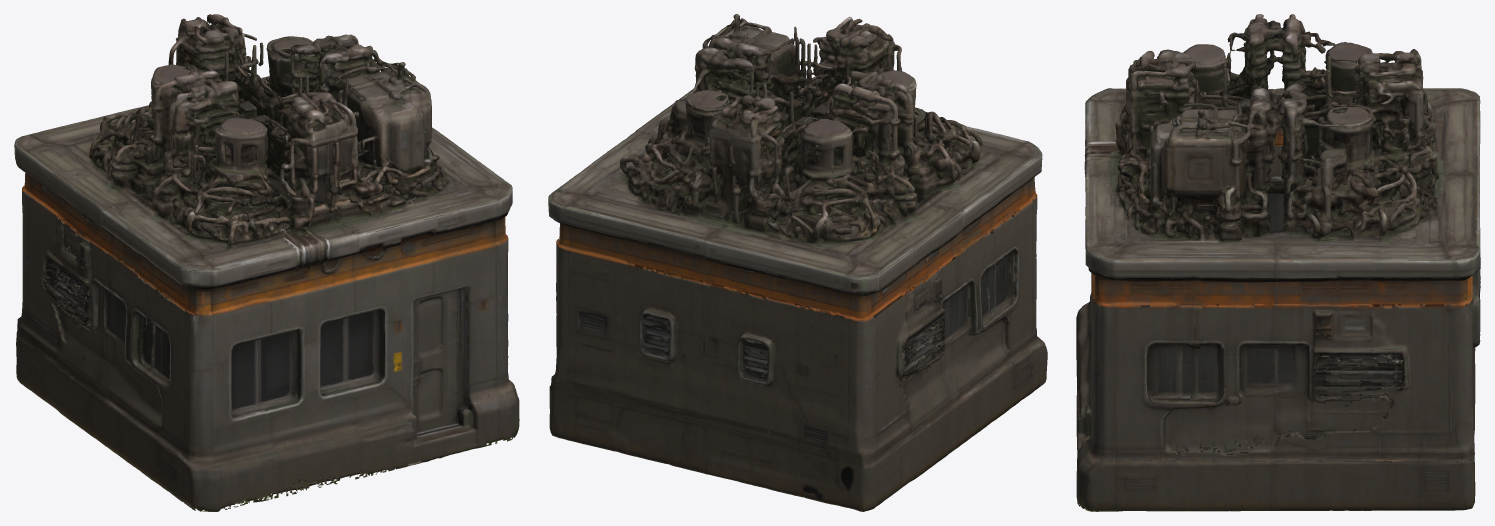
The model's file is Spyders_Workshop.glb.
3 views of the same model, side by side, from view 1: azimuth 30°, elevation 25°; view 2: azimuth 150°, elevation 25°; view 3: azimuth 270°, elevation 25° (orthographic). The views are drawn at different scales.
Visible parts, largest first — view 1: Mesh_0; view 2: Mesh_0; view 3: Mesh_0.
Part boxes in pixels (<box>): Mesh_0: <box>14,14,519,511</box>; Mesh_0: <box>548,14,1047,511</box>; Mesh_0: <box>1076,14,1480,511</box>.
Bounding box in the file's own units: 5 × 5 × 4.95.
Materials: 1 (1 with a texture image).
